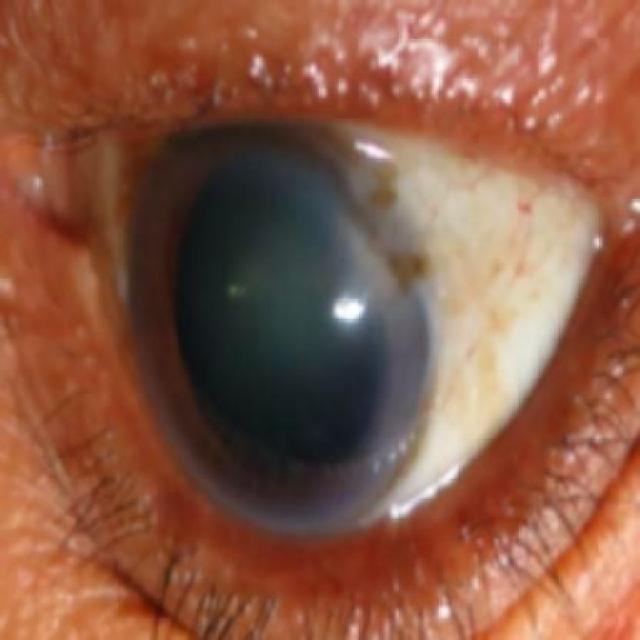Cataract: (126, 107, 432, 540)
